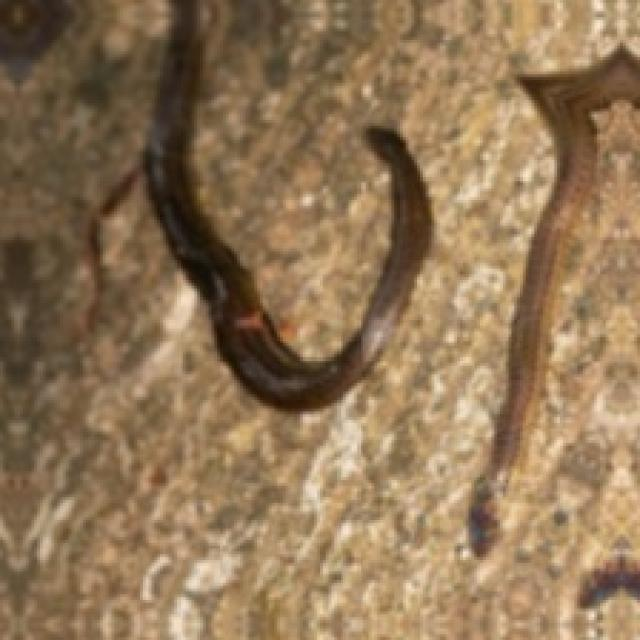gervais worm snake: (143, 0, 429, 409), (469, 46, 637, 554)
